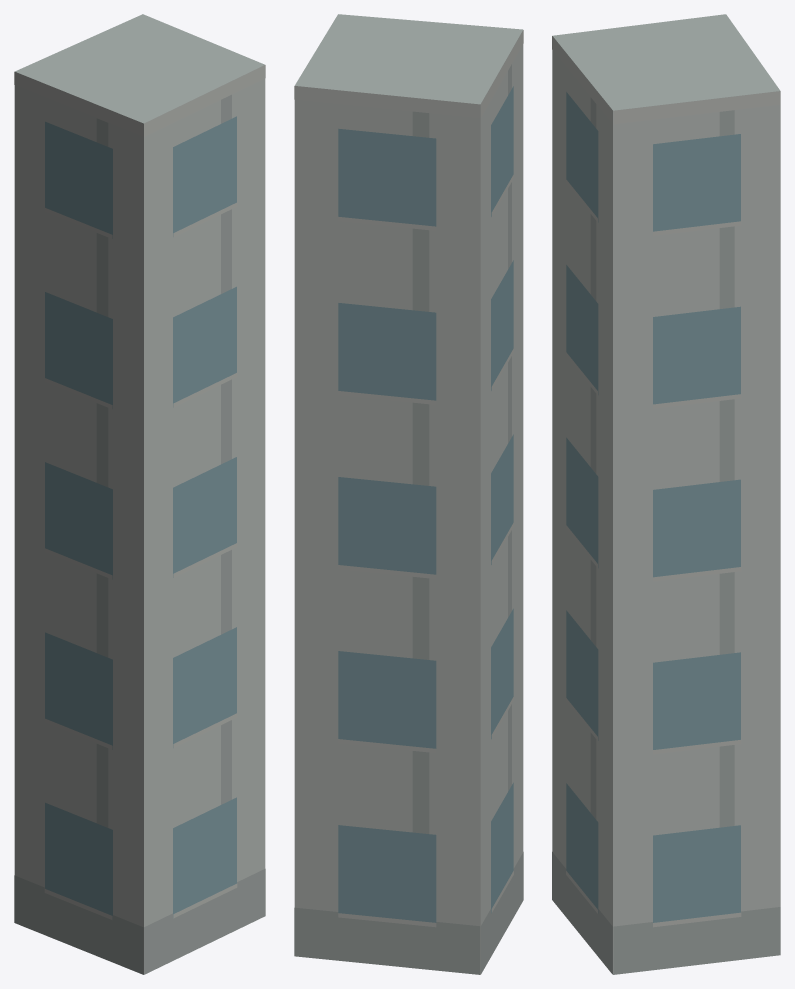
The model's file is survey-upis-32643925.glb.
3 renders of one model, left to right at view 1: azimuth 30°, elevation 25°; view 2: azimuth 150°, elevation 25°; view 3: azimuth 270°, elevation 25°, orthographic. The views are drawn at different scales.
Parts seen in each view (by area): view 1: survey-upis-32643925.tmp; view 2: survey-upis-32643925.tmp; view 3: survey-upis-32643925.tmp.
Part boxes in pixels (x1,y1,x2,y2): survey-upis-32643925.tmp: [14, 14, 265, 974]; survey-upis-32643925.tmp: [294, 14, 523, 974]; survey-upis-32643925.tmp: [552, 14, 780, 974].
Bounding box in the file's own units: 3.67 × 15.25 × 3.66.
